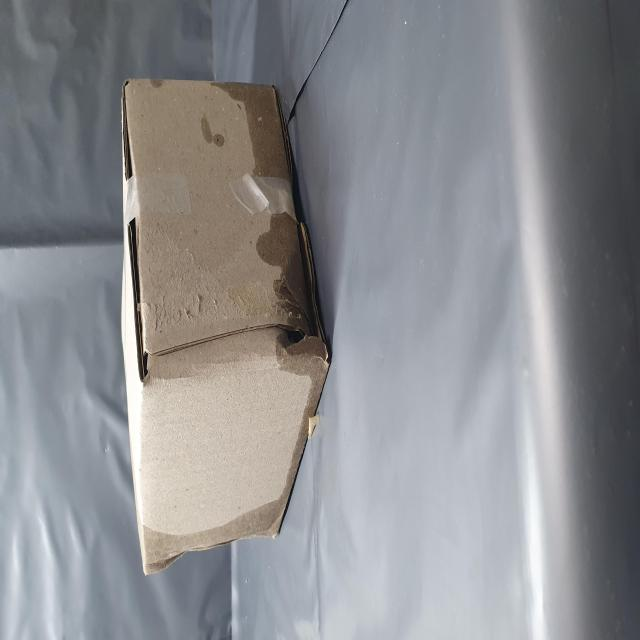wet: (131, 443, 323, 567)
